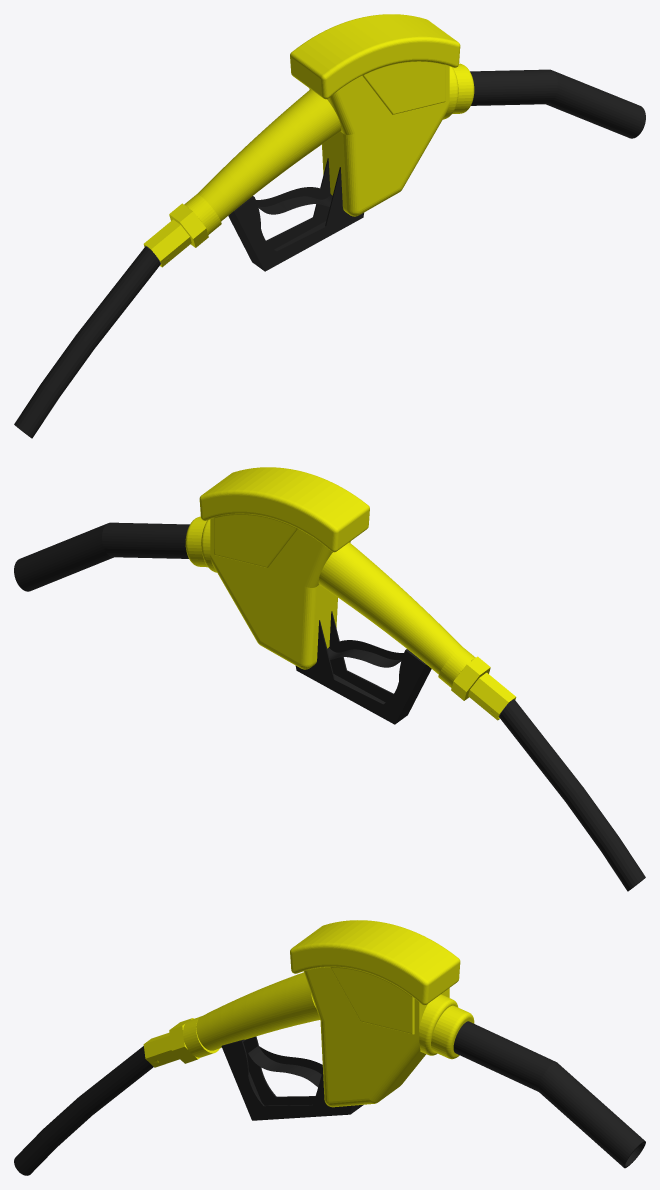
Rendered from gasoline nozzle.fbx.
The picture shows the model from 3 angles, top to bottom: view 1: azimuth 30°, elevation 25°; view 2: azimuth 150°, elevation 25°; view 3: azimuth 330°, elevation 25°; orthographic projection.
Parts seen in each view (by area): view 1: Product3; view 2: Product3; view 3: Product3.
Part boxes in pixels (x1,y1,x2,y2): Product3: (14,14,645,438); Product3: (14,467,645,891); Product3: (14,920,645,1175).
Size of the model in its own units: 83.16 by 41.09 by 8.
